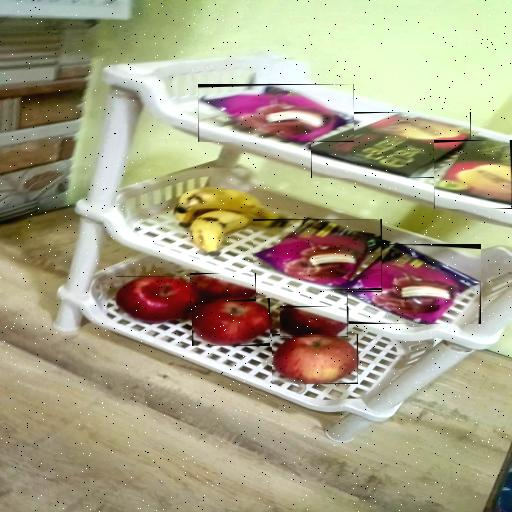Apple: (272, 334, 358, 384), (116, 276, 200, 324), (192, 298, 270, 346), (280, 306, 348, 337), (190, 273, 256, 301)
Choco Fills: (311, 112, 471, 178), (434, 140, 512, 209)
Choco Pie: (347, 244, 481, 324), (253, 220, 382, 292), (198, 84, 354, 142)
